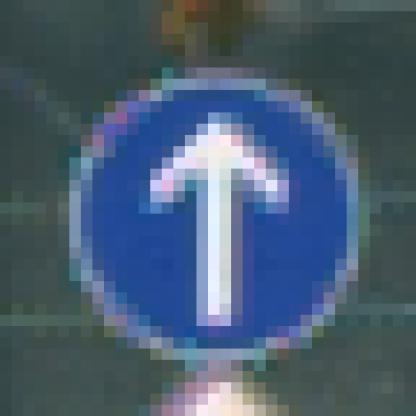AheadOnly: (59, 57, 359, 350)
